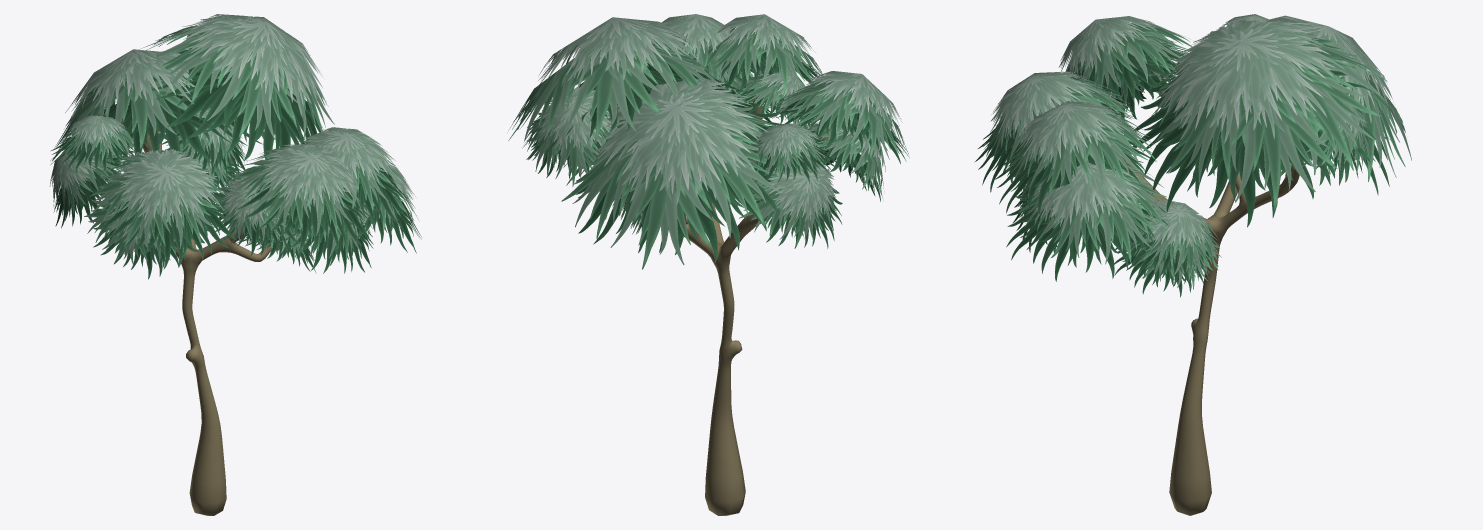
File: Gumtree_003.fbx
3 renders of one model, left to right at view 1: azimuth 30°, elevation 25°; view 2: azimuth 150°, elevation 25°; view 3: azimuth 270°, elevation 25°, orthographic. The views are drawn at different scales.
Parts seen in each view (by area): view 1: Light_Leaf_Top.048, Cube.002, Medium_Leaf_Top.047, Dark_Leaf_Top.046, Light_Leaf_Top.040, Light_Leaf_Top.045, Medium_Leaf_Top.039, Light_Leaf_Top.049, Medium_Leaf_Top.044, Medium_Leaf_Top.048, Dark_Leaf_Top.038, Dark_Leaf_Top.047 (+22 smaller); view 2: Light_Leaf_Top.049, Medium_Leaf_Top.048, Medium_Leaf_Top.047, Cube.002, Light_Leaf_Top.048, Dark_Leaf_Top.047, Medium_Leaf_Top.039, Medium_Leaf_Top.044, Light_Leaf_Top.051, Medium_Leaf_Top.049, Light_Leaf_Top.050, Light_Leaf_Top.040 (+15 smaller); view 3: Medium_Leaf_Top.047, Light_Leaf_Top.048, Cube.002, Dark_Leaf_Top.046, Medium_Leaf_Top.042, Medium_Leaf_Top.043, Light_Leaf_Top.044, Dark_Leaf_Top.041, Light_Leaf_Top.043, Light_Leaf_Top.045, Medium_Leaf_Top.039, Light_Leaf_Top.040 (+14 smaller).
Boxes of the visible parts, left/top/right/bottom form: Light_Leaf_Top.048: left=170, top=14, right=326, bottom=117; Cube.002: left=101, top=107, right=271, bottom=515; Medium_Leaf_Top.047: left=141, top=25, right=334, bottom=139; Dark_Leaf_Top.046: left=149, top=48, right=323, bottom=160; Light_Leaf_Top.040: left=114, top=149, right=219, bottom=228; Light_Leaf_Top.045: left=257, top=144, right=359, bottom=212; Medium_Leaf_Top.039: left=89, top=149, right=226, bottom=249; Light_Leaf_Top.049: left=65, top=49, right=195, bottom=119; Medium_Leaf_Top.044: left=229, top=147, right=361, bottom=235; Medium_Leaf_Top.048: left=52, top=73, right=206, bottom=160; Dark_Leaf_Top.038: left=98, top=174, right=236, bottom=269; Dark_Leaf_Top.047: left=50, top=93, right=262, bottom=174; Light_Leaf_Top.049: left=591, top=78, right=768, bottom=205; Medium_Leaf_Top.048: left=561, top=101, right=782, bottom=269; Medium_Leaf_Top.047: left=508, top=39, right=727, bottom=142; Cube.002: left=641, top=88, right=829, bottom=515; Light_Leaf_Top.048: left=535, top=17, right=699, bottom=89; Dark_Leaf_Top.047: left=576, top=103, right=781, bottom=262; Medium_Leaf_Top.039: left=765, top=81, right=908, bottom=159; Medium_Leaf_Top.044: left=693, top=28, right=822, bottom=93; Light_Leaf_Top.051: left=763, top=163, right=837, bottom=226; Medium_Leaf_Top.049: left=525, top=104, right=619, bottom=186; Light_Leaf_Top.050: left=536, top=85, right=618, bottom=155; Light_Leaf_Top.040: left=803, top=71, right=902, bottom=125; Medium_Leaf_Top.047: left=1151, top=32, right=1387, bottom=210; Light_Leaf_Top.048: left=1153, top=20, right=1345, bottom=143; Cube.002: left=1125, top=71, right=1299, bottom=515; Dark_Leaf_Top.046: left=1133, top=62, right=1377, bottom=227; Medium_Leaf_Top.042: left=1018, top=166, right=1172, bottom=264; Medium_Leaf_Top.043: left=1005, top=114, right=1156, bottom=196; Light_Leaf_Top.044: left=1015, top=101, right=1130, bottom=169; Dark_Leaf_Top.041: left=1006, top=183, right=1169, bottom=281; Light_Leaf_Top.043: left=1031, top=163, right=1145, bottom=233; Light_Leaf_Top.045: left=990, top=71, right=1100, bottom=146; Medium_Leaf_Top.039: left=1065, top=23, right=1192, bottom=89; Light_Leaf_Top.040: left=1058, top=16, right=1165, bottom=77.
Bounding box in the file's own units: 1345 × 1716 × 1503.
